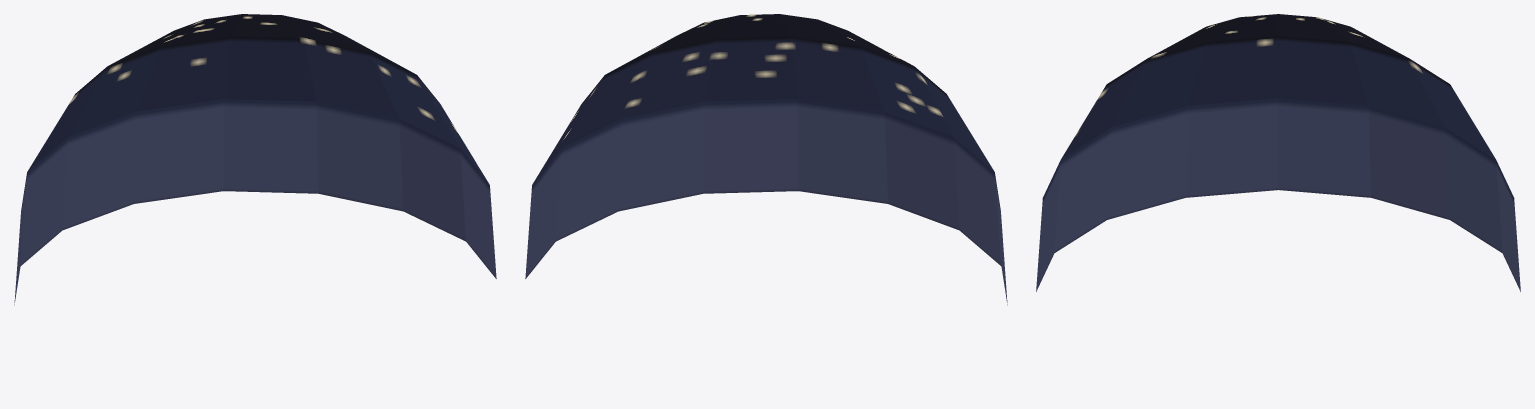
The model's file is wsky.dome.glb.
3 views of the same model, side by side, from view 1: azimuth 30°, elevation 25°; view 2: azimuth 150°, elevation 25°; view 3: azimuth 270°, elevation 25° (orthographic).
Visible parts, largest first — view 1: kit_shell_sky; view 2: kit_shell_sky; view 3: kit_shell_sky.
Part boxes in pixels (<box>): kit_shell_sky: <box>14,14,496,305</box>; kit_shell_sky: <box>525,14,1007,305</box>; kit_shell_sky: <box>1036,14,1520,291</box>.
Bounding box in the file's own units: 791 × 460 × 791.
1 material, 1 textured.
